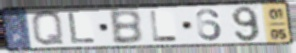6: (196, 8, 225, 42)
9: (229, 5, 261, 44)
B: (107, 9, 145, 46)
L: (66, 12, 98, 45), (149, 9, 180, 43)
Q: (30, 10, 67, 48)
